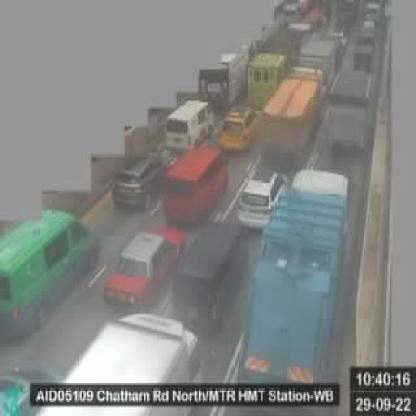Car: (0, 204, 112, 334), (171, 218, 249, 335), (94, 226, 191, 310), (159, 140, 235, 226), (110, 139, 180, 208), (0, 352, 61, 412), (234, 163, 289, 229), (158, 97, 219, 153), (217, 101, 261, 156), (300, 29, 344, 78), (348, 36, 377, 74), (358, 19, 380, 42)
Truck: (235, 165, 360, 397), (35, 312, 215, 414), (258, 62, 322, 162), (242, 19, 313, 97), (188, 31, 258, 102)
